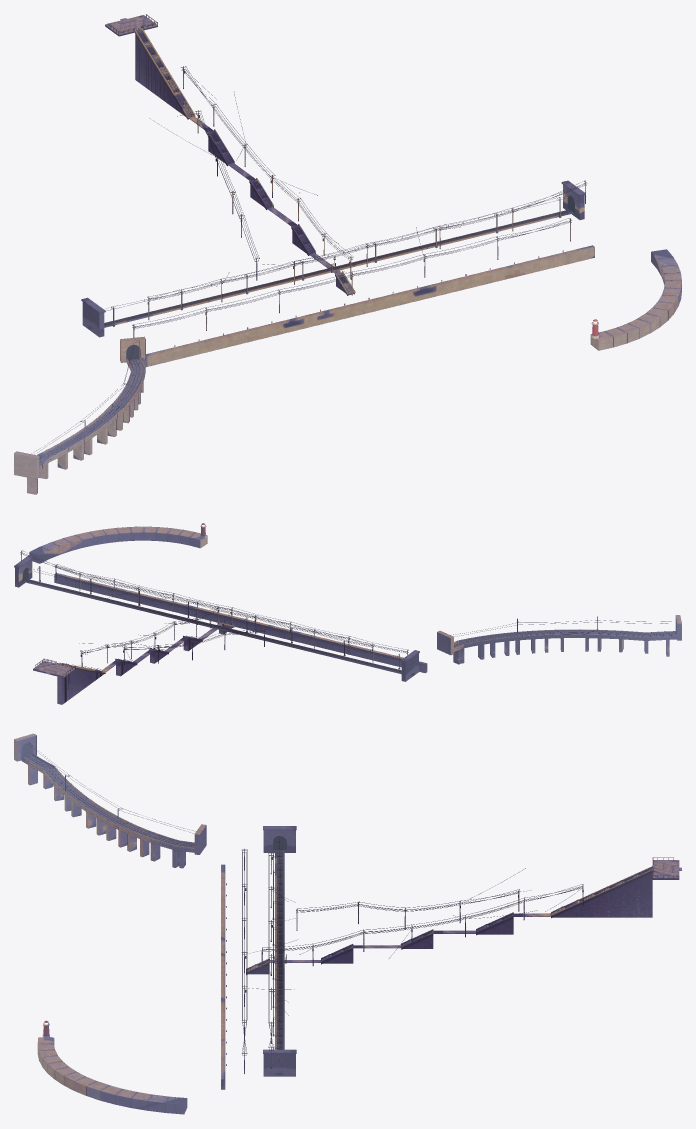
File: infra.glb
3 renders of one model, top to bottom at view 1: azimuth 30°, elevation 25°; view 2: azimuth 150°, elevation 25°; view 3: azimuth 270°, elevation 25°, orthographic. The views are drawn at different scales.
Parts seen in each view (by area): view 1: piece_infra; view 2: piece_infra; view 3: piece_infra.
Part boxes in pixels (left/top/right/bottom): piece_infra: left=14, top=14, right=681, bottom=494; piece_infra: left=14, top=523, right=681, bottom=704; piece_infra: left=14, top=733, right=681, bottom=1114.
Bounding box in the file's own units: 302 × 48.56 × 250.
4 materials, 1 textured.
